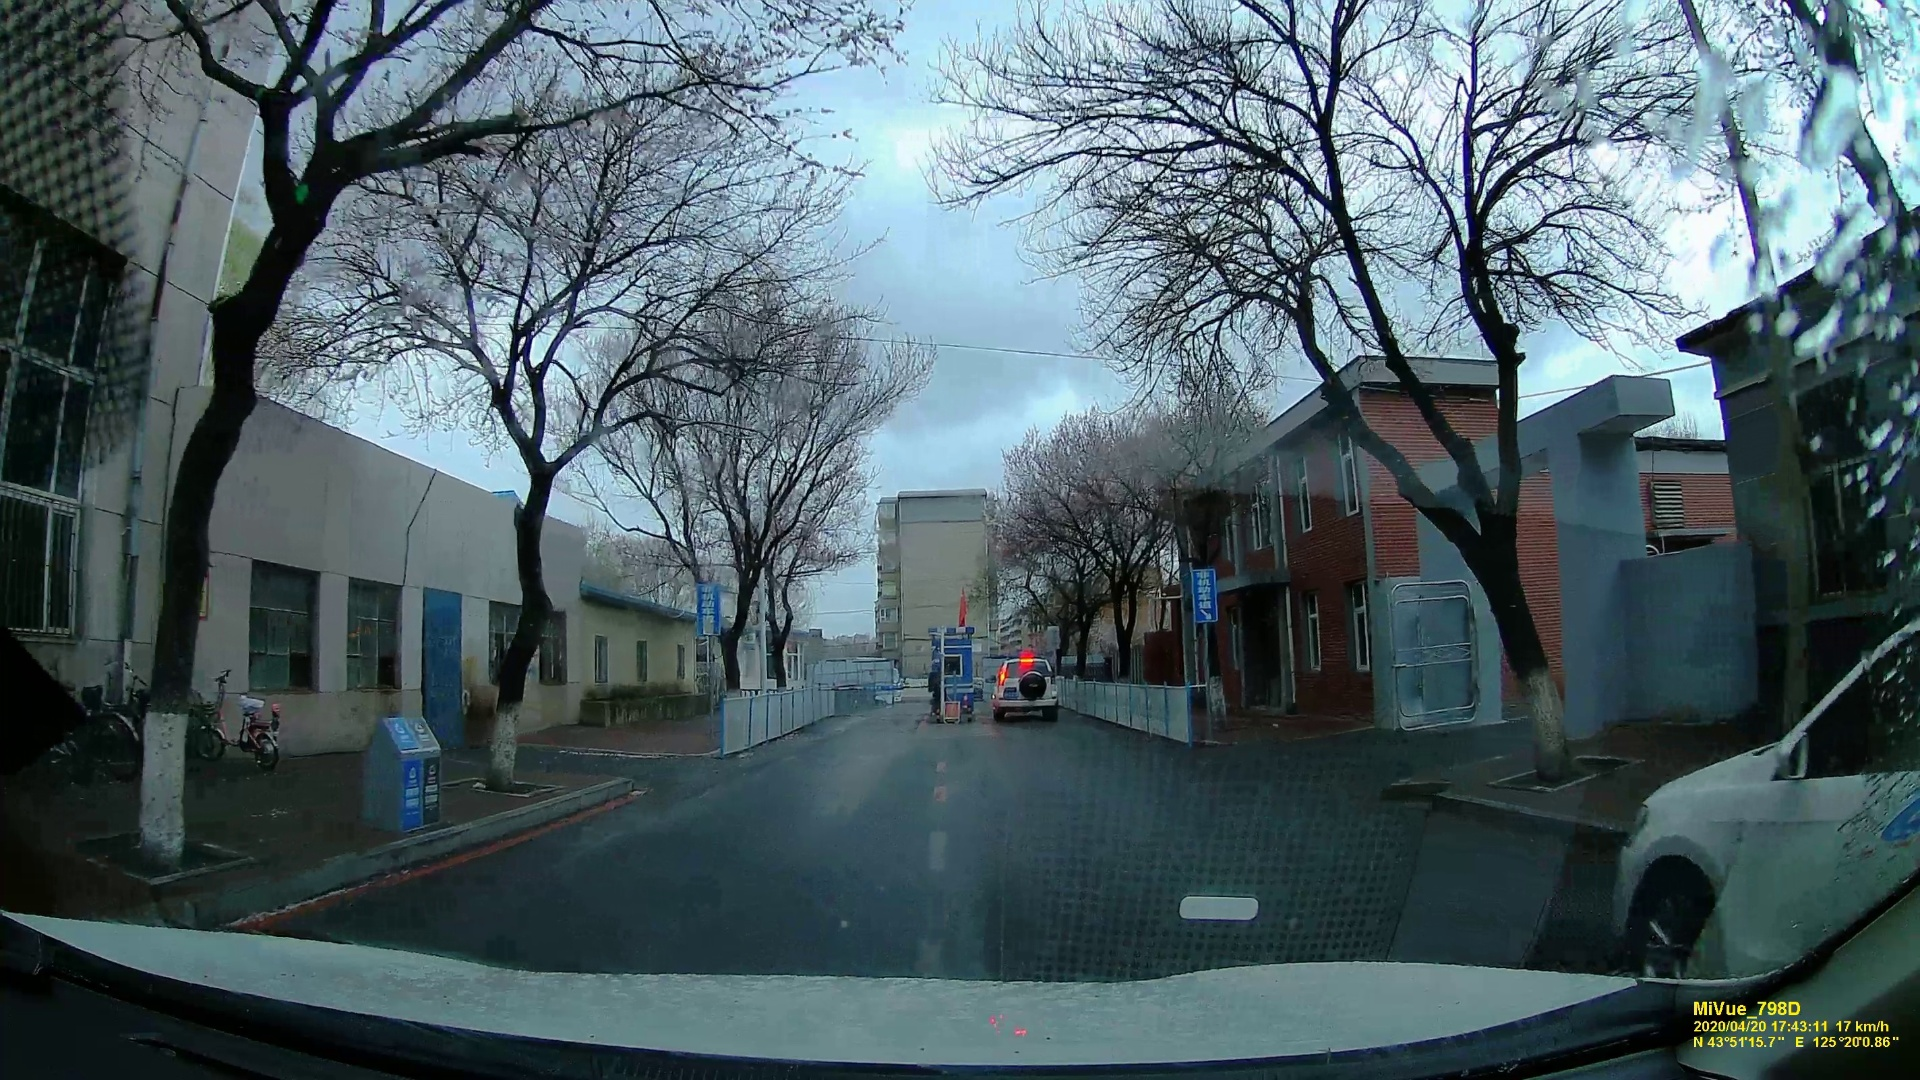traffic_sign: (1191, 568, 1222, 621), (695, 582, 721, 637)
vehicle: (1564, 605, 1920, 969), (990, 653, 1058, 723)
